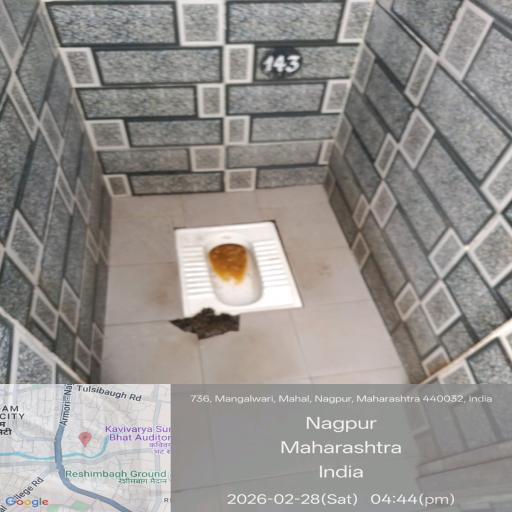clean_floor: (0, 2, 501, 194), (420, 198, 508, 384), (0, 177, 81, 368)
damage: (162, 303, 246, 336)
dirty_floor: (165, 222, 299, 311)
partial_dirty_floor: (91, 193, 407, 391)
